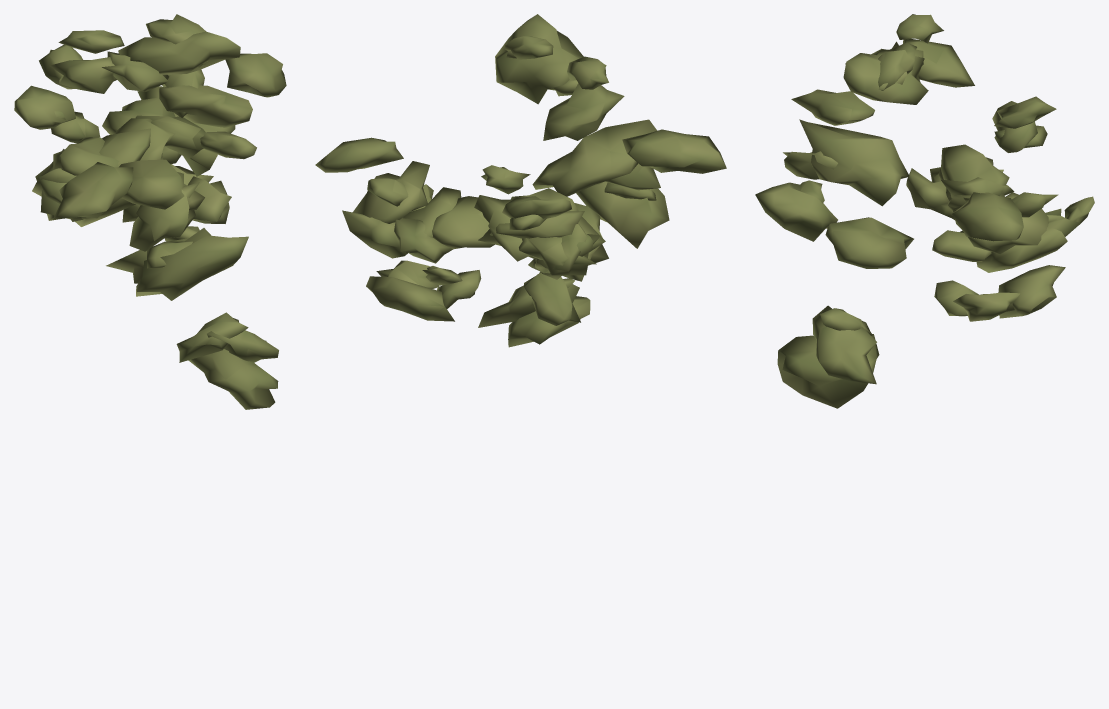
Rendered from baum-buche-3-mittel.glb.
3 renders of one model, left to right at view 1: azimuth 30°, elevation 25°; view 2: azimuth 150°, elevation 25°; view 3: azimuth 270°, elevation 25°, orthographic. The views are drawn at different scales.
Visible parts, largest first — view 1: Baum_Stamm.001; view 2: Baum_Stamm.001; view 3: Baum_Stamm.001.
Part boxes in pixels (x1=…): Baum_Stamm.001: x1=14, y1=14, x2=286, y2=409; Baum_Stamm.001: x1=315, y1=14, x2=726, y2=347; Baum_Stamm.001: x1=755, y1=14, x2=1094, y2=408.
Size of the model in its own units: 10.88 by 21.57 by 10.65.
